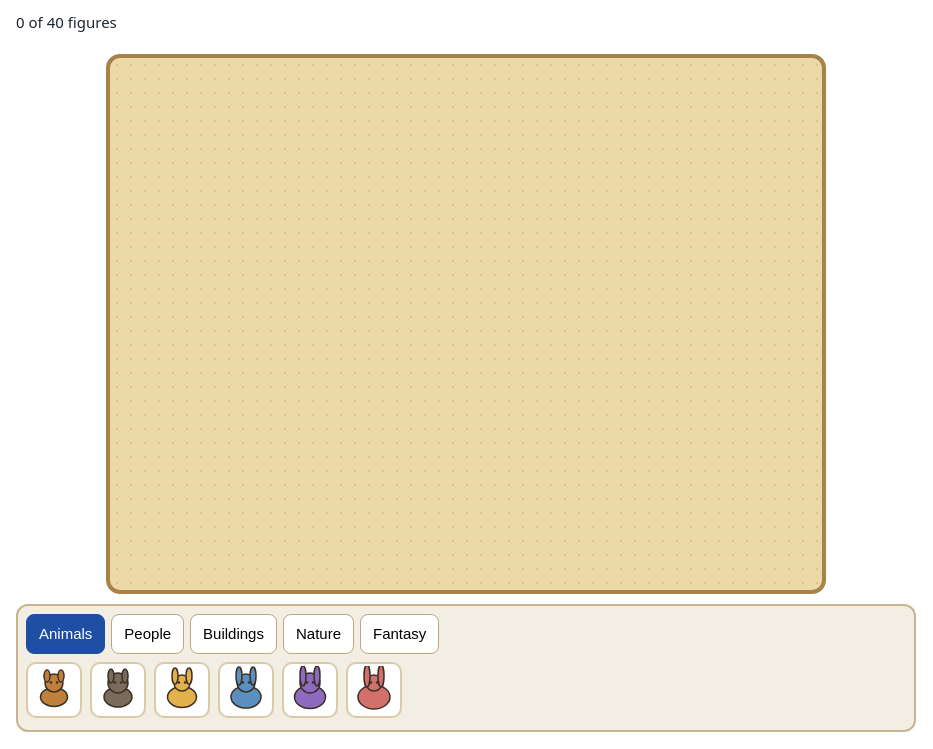
Test case: Escape cancels a picked-up figure
Click the button named "Animal 3".
click(182, 690)  # box [154,662,210,718]
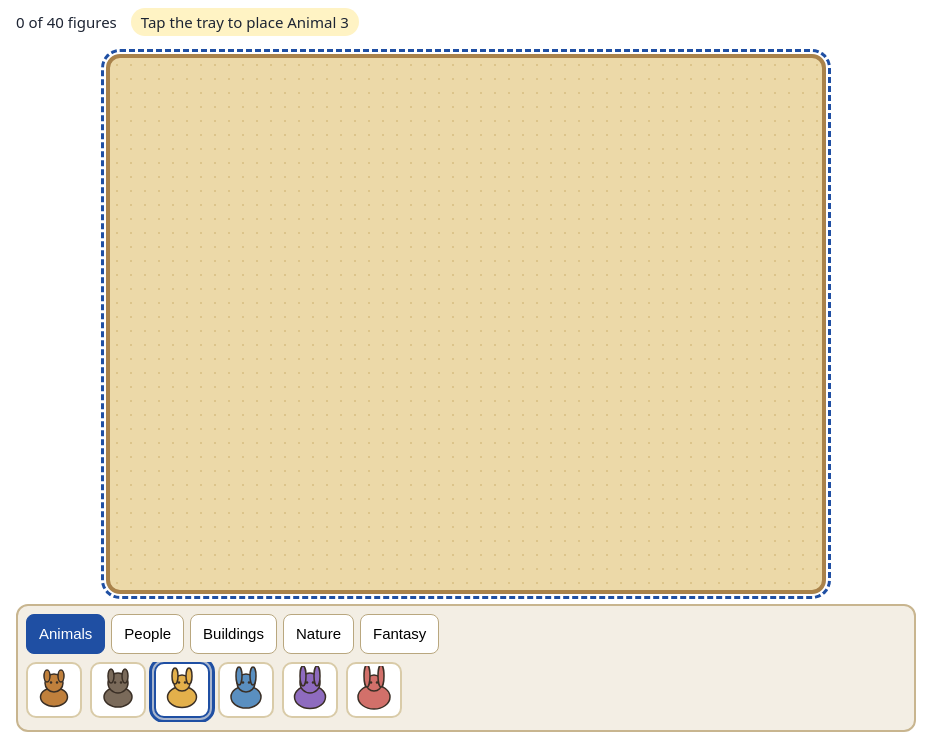
Press Escape
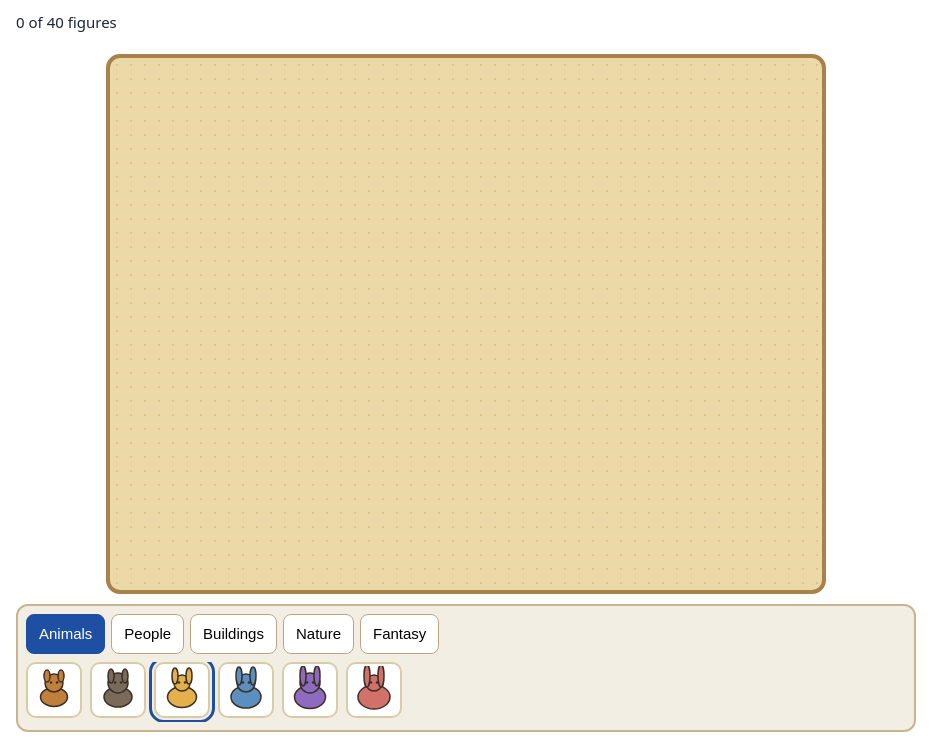
Result: the text "Tap the tray to place" is gone
